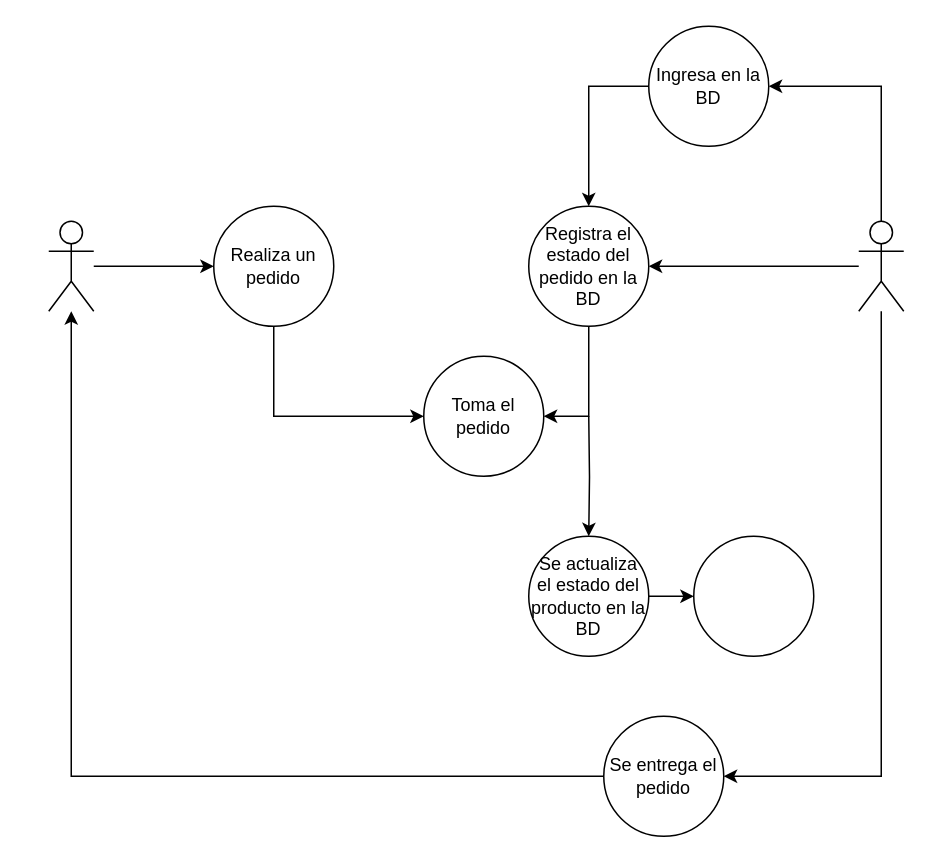
Image size: 945x863. Some labels were removed from this diagram. The shapes that lost their labels are listed below. From the top down, each one's box as (x1, y1, x2, y2) in pixels, then its label:
(47, 220, 94, 311): Comprador
(857, 220, 904, 311): Vendedor
(692, 535, 814, 656): Se registran detalles de la compra
